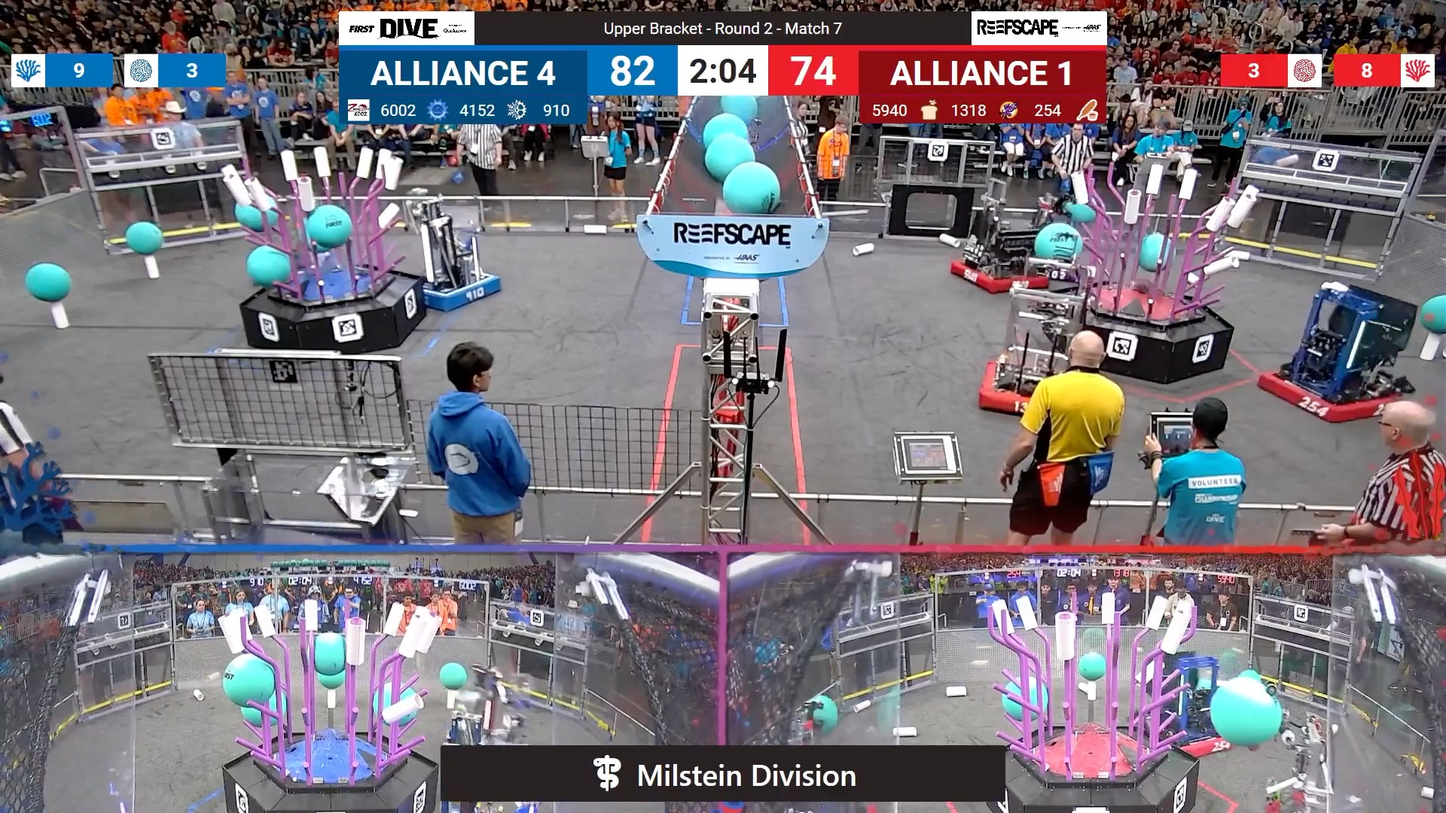bumpers: (1253, 366, 1414, 430), (975, 358, 1066, 419), (944, 253, 1057, 299), (409, 268, 510, 314)
